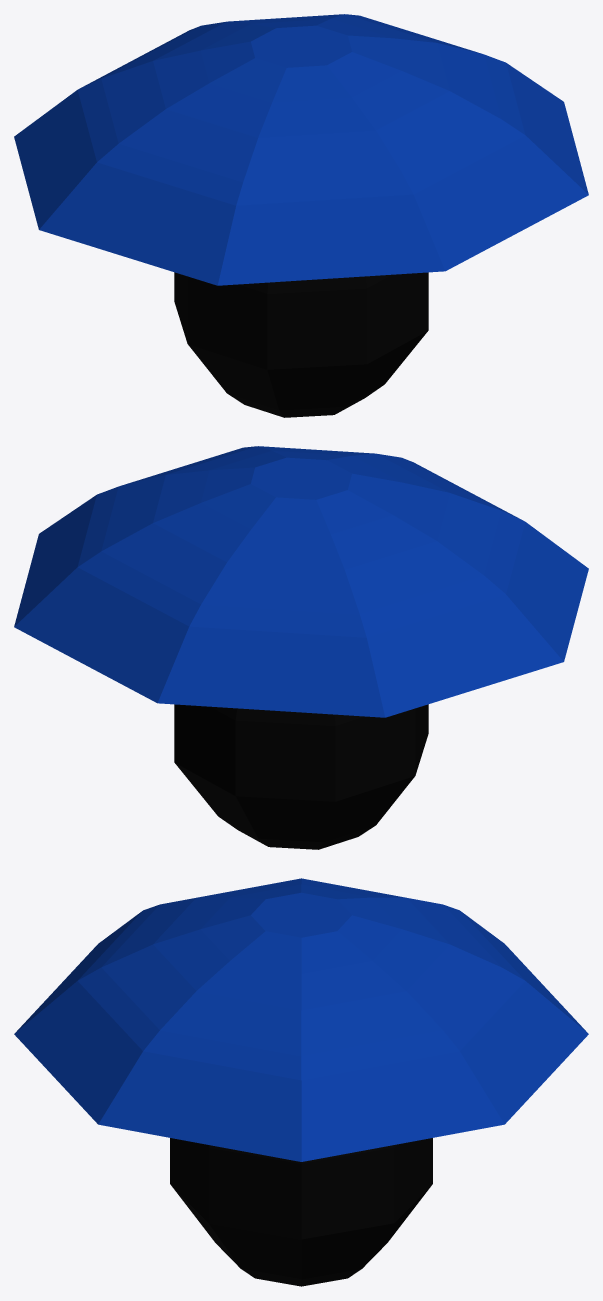
File: Mushroom04_HT.fbx
3 renders of one model, top to bottom at view 1: azimuth 30°, elevation 25°; view 2: azimuth 150°, elevation 25°; view 3: azimuth 270°, elevation 25°, orthographic.
Parts seen in each view (by area): view 1: Mushroom04_HT; view 2: Mushroom04_HT; view 3: Mushroom04_HT.
Part boxes in pixels (<box>): Mushroom04_HT: <box>14,14,588,417</box>; Mushroom04_HT: <box>14,446,588,849</box>; Mushroom04_HT: <box>14,878,588,1286</box>.
Bounding box in the file's own units: 82.17 × 51.47 × 78.06.
